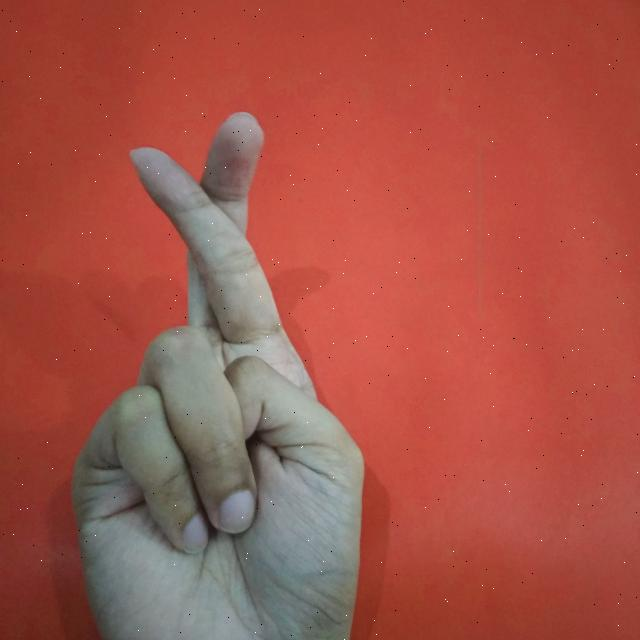R: (66, 107, 371, 640)
